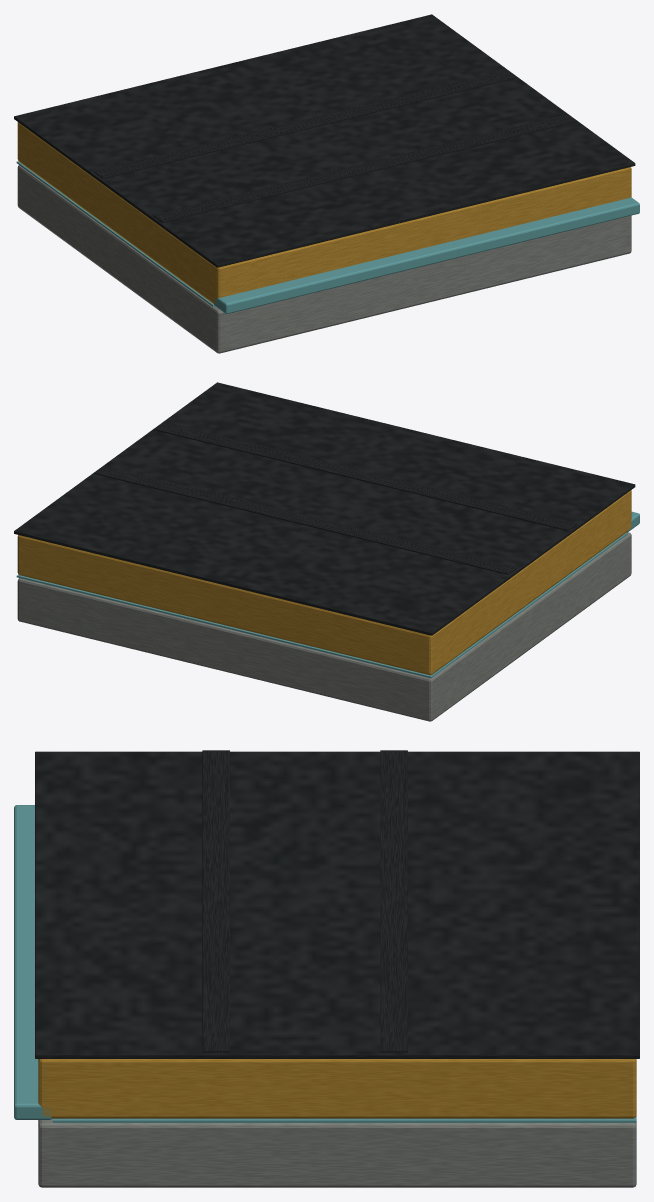
The model's file is modell.glb.
3 views of the same model, one above another, from view 1: azimuth 30°, elevation 25°; view 2: azimuth 150°, elevation 25°; view 3: azimuth 270°, elevation 25° (orthographic). The views are drawn at different scales.
Visible parts, largest first — view 1: g01-abdichtung_deckung, g01-untergrund_tragwerk, g01-daemmung_daemmung, g01-naht_deckung, g01-innenanschluss_luftdichtheit, g01-luftdichtheit_luftdichtheit; view 2: g01-abdichtung_deckung, g01-untergrund_tragwerk, g01-daemmung_daemmung, g01-naht_deckung, g01-luftdichtheit_luftdichtheit; view 3: g01-abdichtung_deckung, g01-untergrund_tragwerk, g01-daemmung_daemmung, g01-naht_deckung, g01-innenanschluss_luftdichtheit, g01-luftdichtheit_luftdichtheit.
Boxes of the visible parts, x1,y1,x2,y2 form: g01-abdichtung_deckung: (14,14,635,267); g01-untergrund_tragwerk: (17,165,631,353); g01-daemmung_daemmung: (17,122,631,304); g01-naht_deckung: (93,70,577,222); g01-innenanschluss_luftdichtheit: (214,197,639,313); g01-luftdichtheit_luftdichtheit: (16,161,214,306); g01-abdichtung_deckung: (14,382,635,635); g01-untergrund_tragwerk: (17,532,631,721); g01-daemmung_daemmung: (17,490,631,675); g01-naht_deckung: (93,422,577,574); g01-luftdichtheit_luftdichtheit: (16,533,627,678); g01-abdichtung_deckung: (35,751,639,1058); g01-untergrund_tragwerk: (38,1119,636,1187); g01-daemmung_daemmung: (38,1059,636,1118); g01-naht_deckung: (202,750,407,1052); g01-innenanschluss_luftdichtheit: (14,805,51,1119); g01-luftdichtheit_luftdichtheit: (52,1116,636,1122).
Bounding box in the file's own units: 2.22 × 0.471 × 1.93.
Materials: 4 (3 with a texture image).
